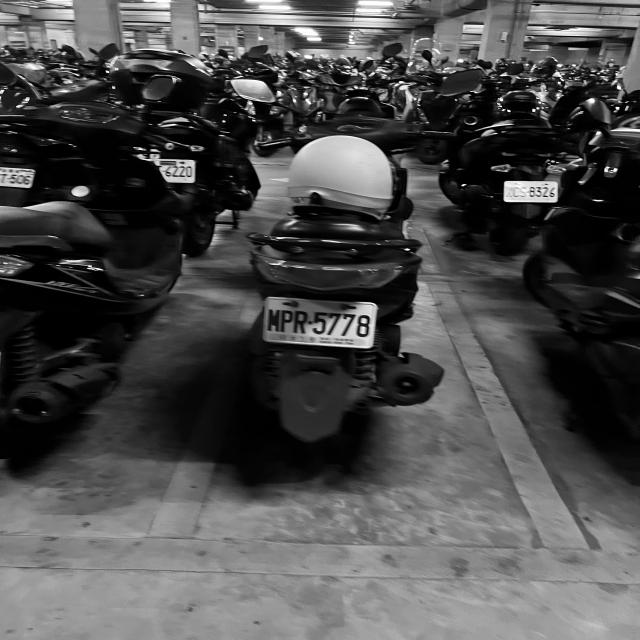-: (307, 320, 313, 325)
0: (185, 166, 192, 178)
2: (179, 166, 185, 178), (172, 166, 178, 177), (542, 188, 548, 198)
3: (536, 187, 542, 197)
5: (313, 311, 329, 335), (10, 174, 16, 184)
6: (165, 165, 171, 178), (549, 188, 555, 198), (24, 176, 30, 186)
7: (342, 312, 355, 338), (328, 311, 340, 337)
8: (356, 312, 371, 338), (529, 187, 535, 197)
C: (512, 187, 520, 197)
M: (268, 308, 280, 332)
P: (281, 309, 292, 333)
R: (293, 310, 307, 335)
S: (520, 186, 526, 198)
plate: (264, 298, 374, 348), (505, 182, 557, 202)
